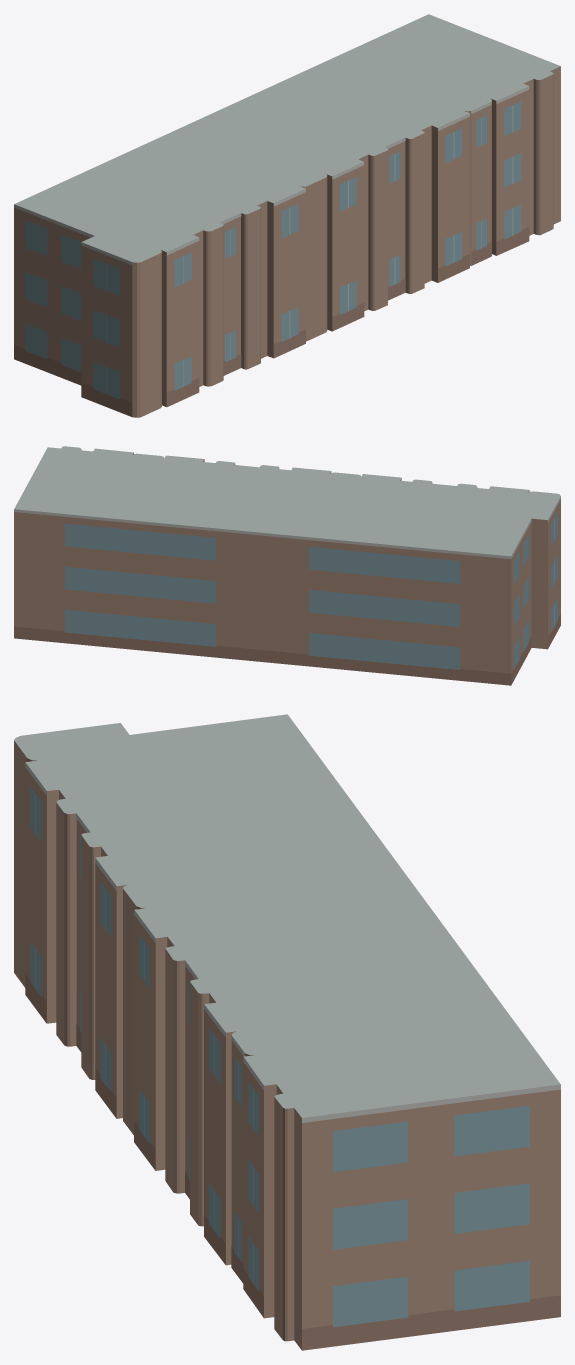
File: survey-upis-32959681.glb
3 views of the same model, one above another, from view 1: azimuth 30°, elevation 25°; view 2: azimuth 150°, elevation 25°; view 3: azimuth 270°, elevation 25° (orthographic). The views are drawn at different scales.
Visible parts, largest first — view 1: survey-upis-32959681.tmp; view 2: survey-upis-32959681.tmp; view 3: survey-upis-32959681.tmp.
Part boxes in pixels (x1,y1,x2,y2): survey-upis-32959681.tmp: (14, 14, 560, 417); survey-upis-32959681.tmp: (14, 446, 560, 685); survey-upis-32959681.tmp: (14, 714, 560, 1350).
Bounding box in the file's own units: 41.63 × 11.18 × 23.83.
